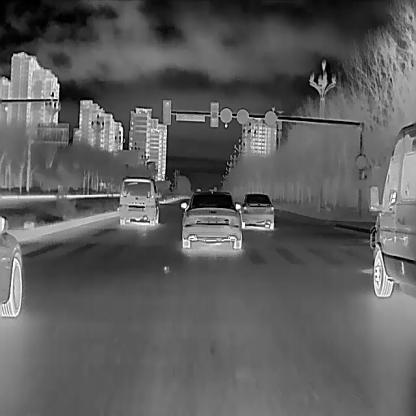car: (366, 119, 415, 298), (179, 189, 242, 249), (117, 175, 159, 224), (237, 191, 274, 229)
